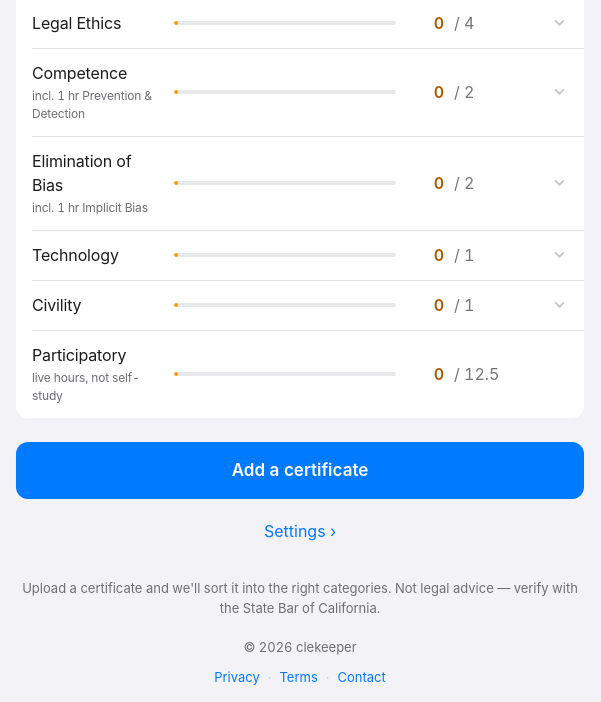
Test: Settings: hides Export when there are no credits yet
(page scrolled)
Click the button "Settings ›" at [300, 531], box [258,507,342,555]
(page scrolled)
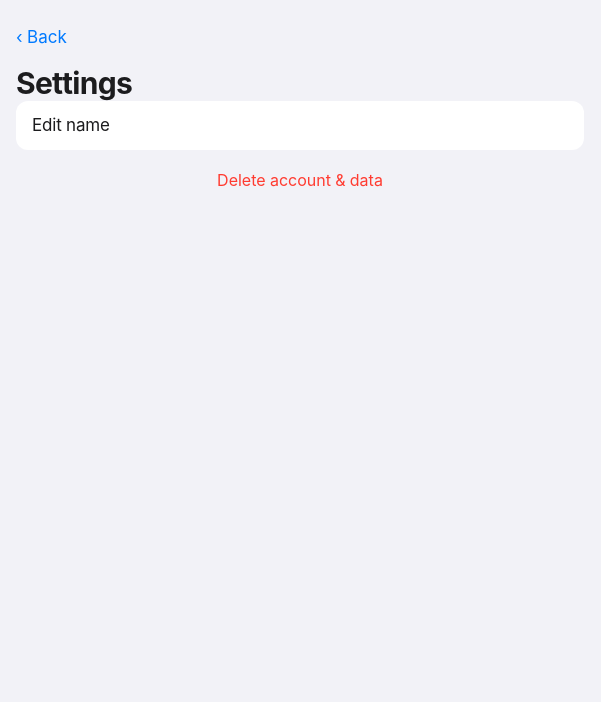
Check: the heading "Settings" is shown, box [16,65,132,101]
